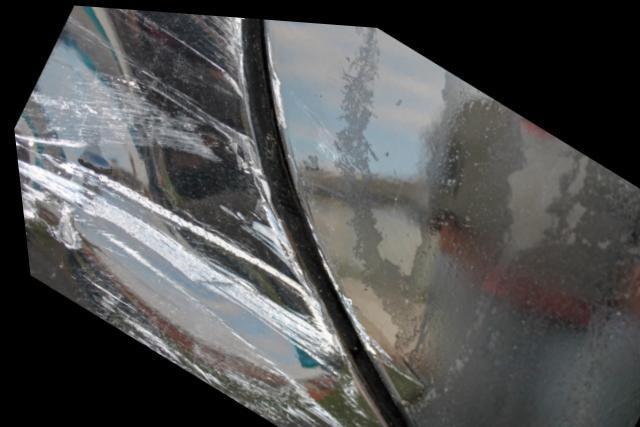dent: (11, 4, 334, 396)
scratch: (84, 275, 382, 427), (196, 11, 243, 68)
